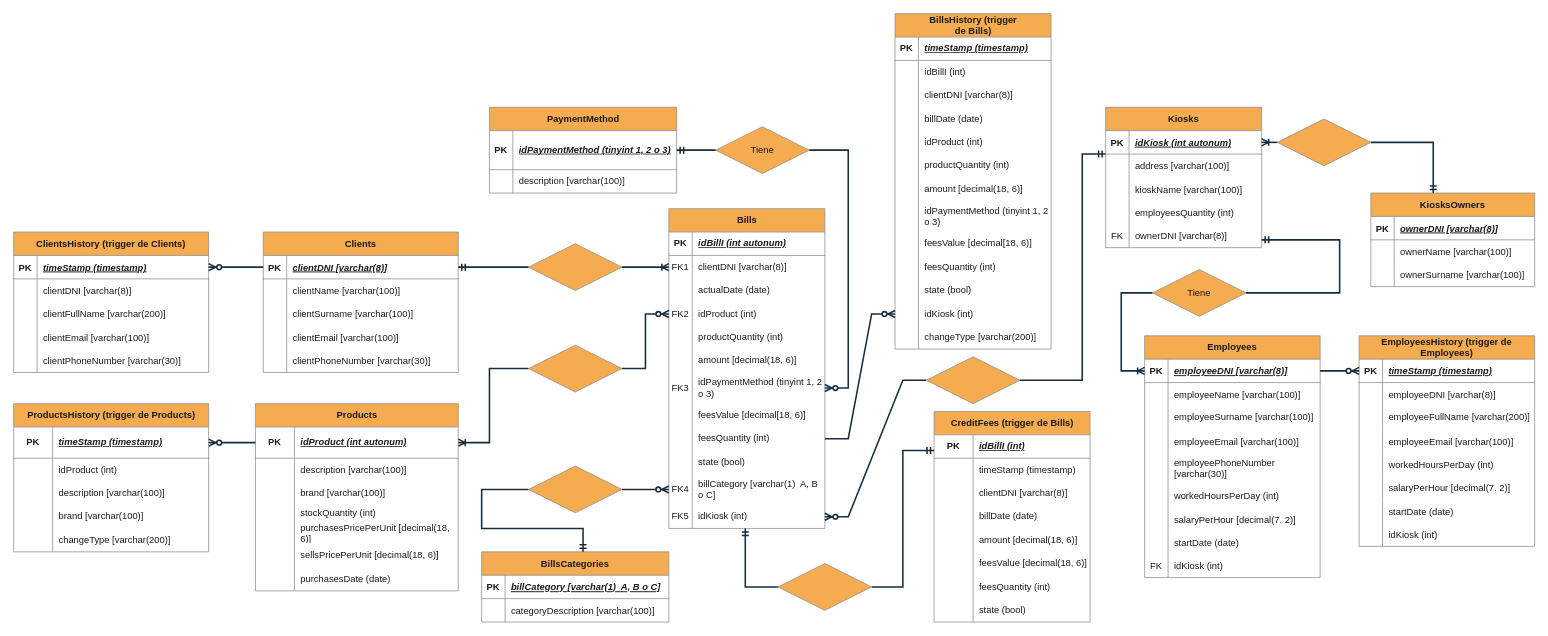
The diagram is 1548 pixels wide and 636 high, and some of its shapes have lost their labels. The shapes that lost their labels are listed below. From the top down, each one's centre as x and y in pixels, then its label:
[1323,142]: Es dueño de
[575,267]: Compra
[575,368]: Se compone de
[972,380]: Aparece en
[575,489]: Es de
[824,586]: Aparece
